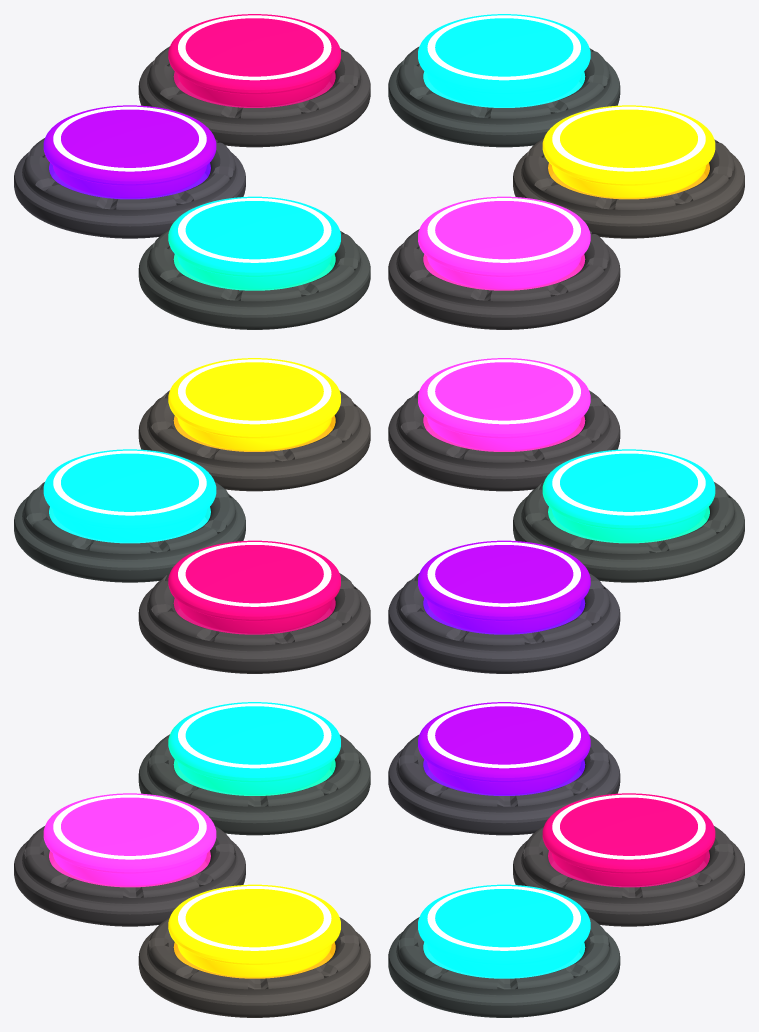
Rendered from MemoryGame_UI_Hard.glb.
3 views of the same model, one above another, from view 1: azimuth 30°, elevation 25°; view 2: azimuth 150°, elevation 25°; view 3: azimuth 270°, elevation 25° (orthographic).
Visible parts, largest first — view 1: Button_Amber_Surface, Button_Jade_Surface, Button_Magenta_Surface, Button_Violet_Surface, Button_Crimson_Surface, Button_Cyan_Surface, Button_Jade_Frame, Button_Magenta_Frame, Button_Crimson_Frame, Button_Cyan_Frame, Button_Amber_Frame, Button_Violet_Frame; view 2: Button_Crimson_Surface, Button_Cyan_Surface, Button_Jade_Surface, Button_Violet_Surface, Button_Amber_Surface, Button_Magenta_Surface, Button_Violet_Frame, Button_Crimson_Frame, Button_Magenta_Frame, Button_Amber_Frame, Button_Cyan_Frame, Button_Jade_Frame; view 3: Button_Amber_Surface, Button_Crimson_Surface, Button_Cyan_Surface, Button_Magenta_Surface, Button_Jade_Surface, Button_Violet_Surface, Button_Amber_Frame, Button_Cyan_Frame, Button_Jade_Frame, Button_Violet_Frame, Button_Crimson_Frame, Button_Magenta_Frame.
Boxes of the visible parts, x1,y1,x2,y2 form: Button_Amber_Surface: (542, 105, 715, 198); Button_Jade_Surface: (168, 196, 340, 289); Button_Magenta_Surface: (418, 196, 590, 289); Button_Violet_Surface: (43, 105, 216, 198); Button_Crimson_Surface: (168, 14, 340, 106); Button_Cyan_Surface: (418, 14, 590, 106); Button_Jade_Frame: (138, 229, 370, 329); Button_Magenta_Frame: (388, 229, 620, 329); Button_Crimson_Frame: (138, 46, 370, 147); Button_Cyan_Frame: (388, 47, 620, 147); Button_Amber_Frame: (513, 138, 744, 238); Button_Violet_Frame: (14, 138, 245, 238); Button_Crimson_Surface: (168, 540, 340, 633); Button_Cyan_Surface: (43, 449, 216, 542); Button_Jade_Surface: (542, 449, 715, 542); Button_Violet_Surface: (418, 540, 590, 633); Button_Amber_Surface: (168, 358, 340, 450); Button_Magenta_Surface: (418, 358, 590, 450); Button_Violet_Frame: (388, 573, 620, 673); Button_Crimson_Frame: (138, 573, 370, 673); Button_Magenta_Frame: (388, 390, 620, 491); Button_Amber_Frame: (138, 390, 370, 491); Button_Cyan_Frame: (14, 482, 245, 582); Button_Jade_Frame: (513, 482, 744, 582); Button_Amber_Surface: (168, 884, 340, 977); Button_Crimson_Surface: (542, 793, 715, 886); Button_Cyan_Surface: (418, 884, 590, 977); Button_Magenta_Surface: (43, 793, 216, 886); Button_Jade_Surface: (168, 702, 340, 794); Button_Violet_Surface: (418, 702, 590, 794); Button_Amber_Frame: (138, 917, 370, 1017); Button_Cyan_Frame: (388, 917, 620, 1017); Button_Jade_Frame: (138, 734, 370, 835); Button_Violet_Frame: (388, 734, 620, 835); Button_Crimson_Frame: (513, 826, 744, 926); Button_Magenta_Frame: (14, 826, 245, 926).
Size of the model in its own units: 5.73 by 0.525 by 6.3.
